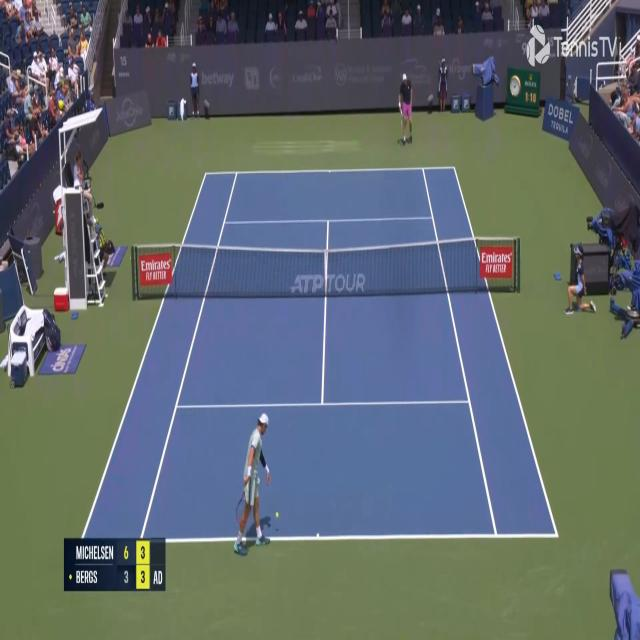tennis-player: (231, 408, 274, 561), (397, 73, 413, 147)
